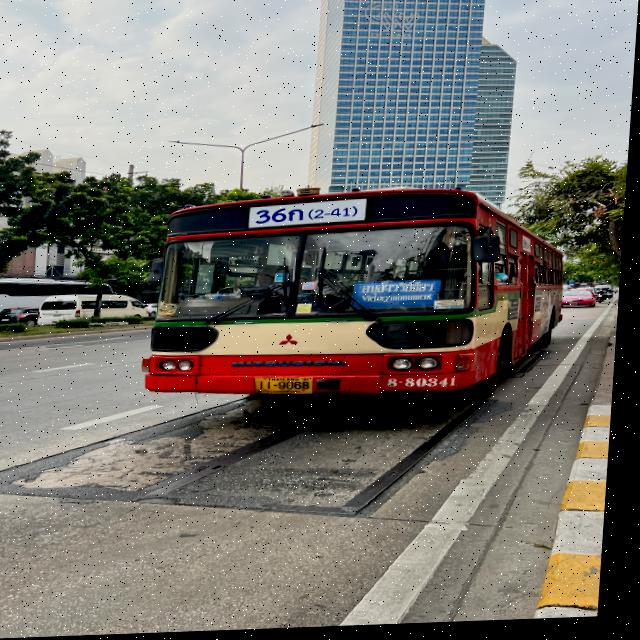BMTA-bus: (145, 185, 576, 409)
Bus-Line-Number: (251, 200, 370, 233)
Destination-Sign-Normal: (356, 283, 448, 318)
